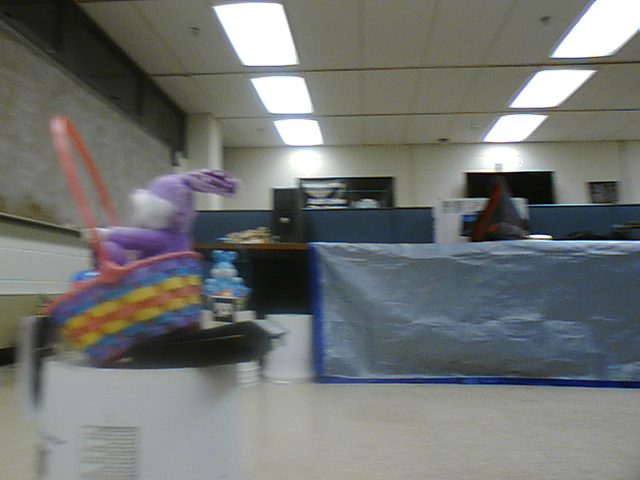bunny: (31, 128, 256, 359), (200, 238, 246, 313)
